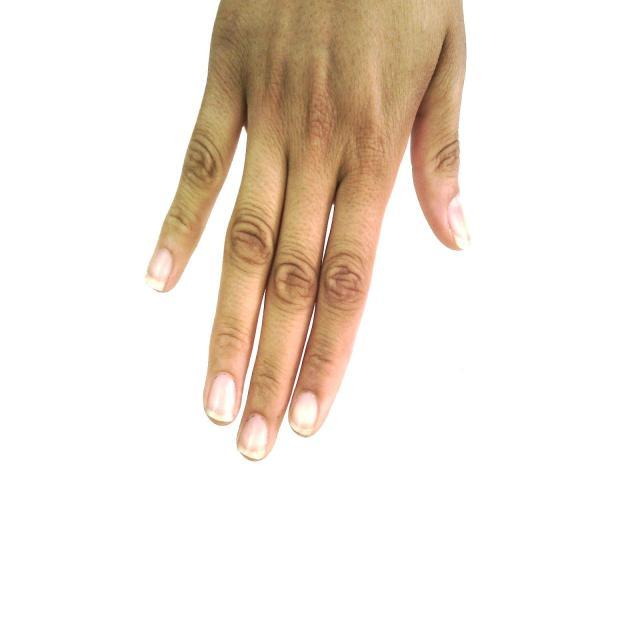Fingernail: (208, 374, 238, 423), (239, 415, 268, 459), (291, 392, 318, 435), (449, 198, 469, 249), (147, 249, 172, 288)
